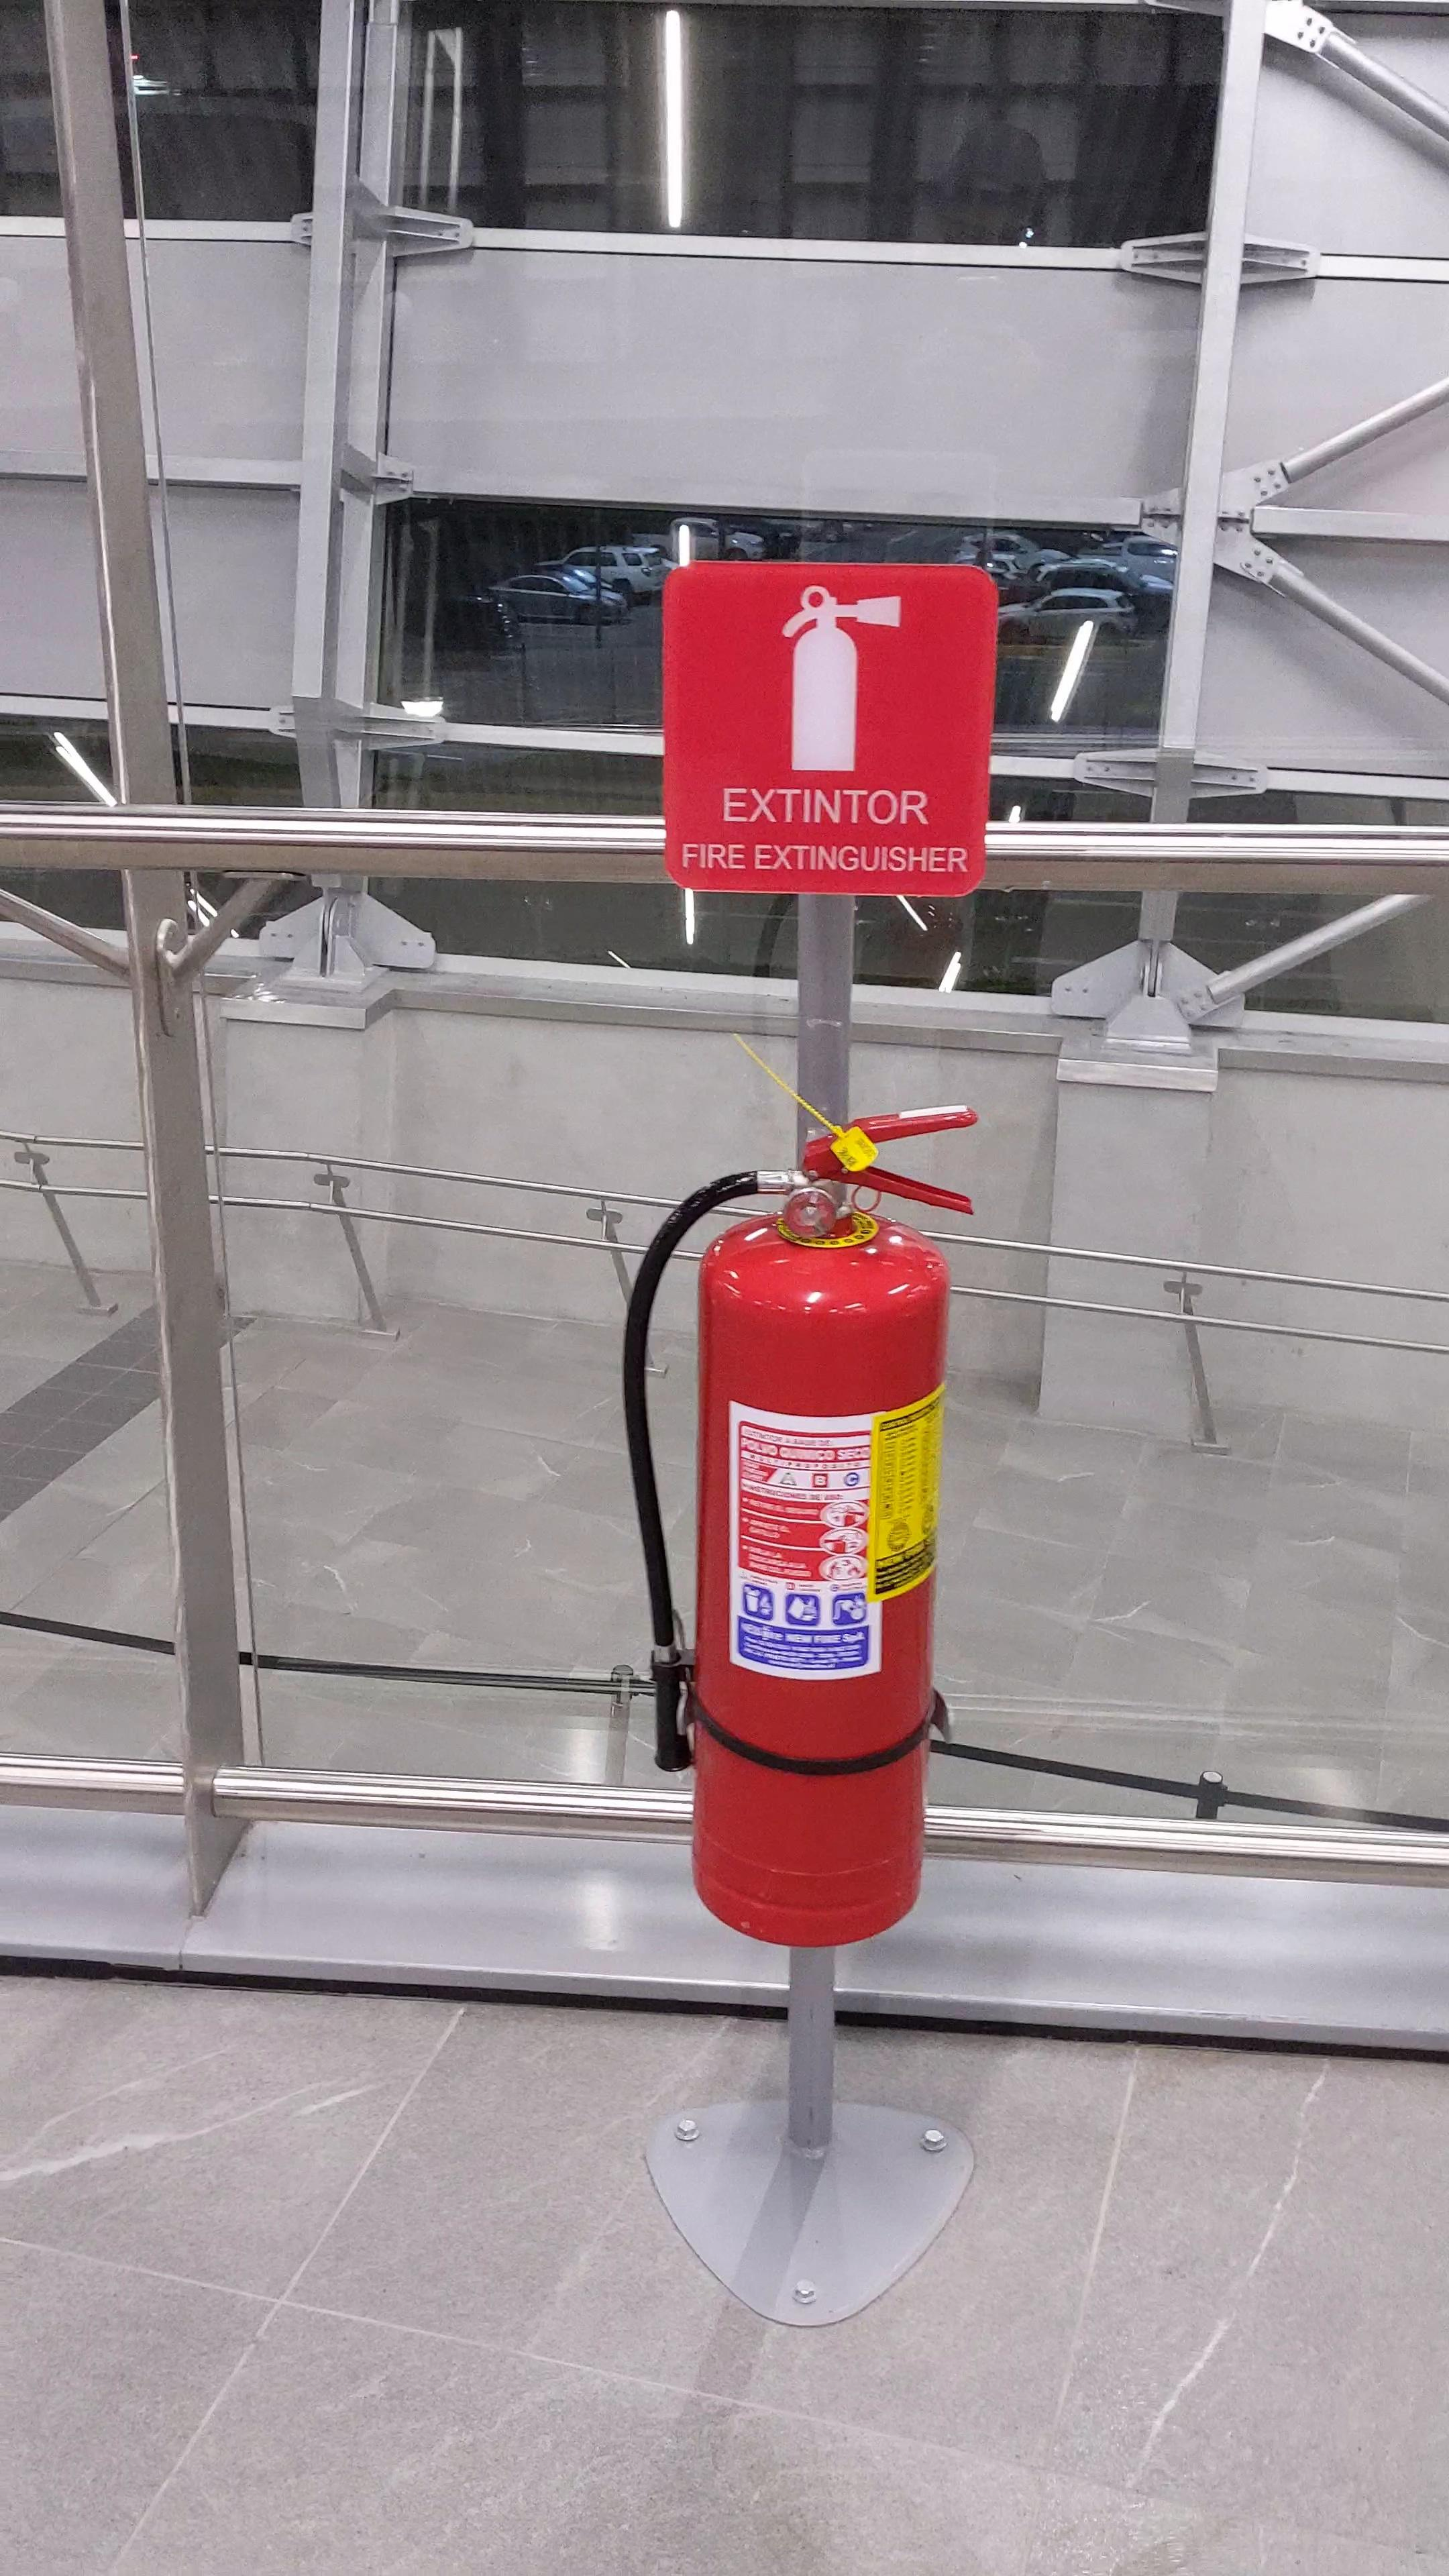extinguisher symbol: (778, 580, 908, 780)
fire-extinguisher: (610, 1063, 982, 1951)
